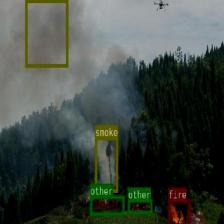fire: (168, 199, 190, 224)
smoke: (24, 0, 67, 66), (94, 136, 117, 192)
